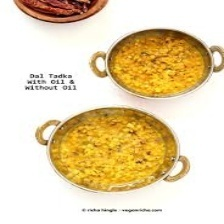dal: (109, 30, 211, 99)
